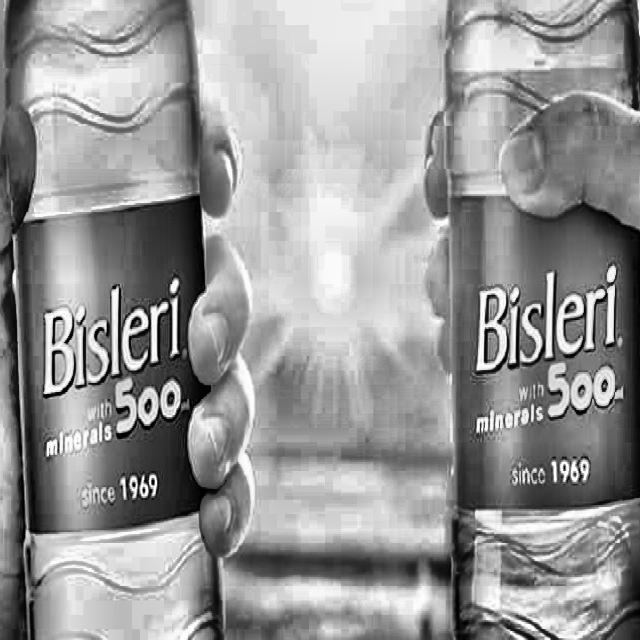bottle: (3, 0, 222, 640), (445, 0, 640, 640)
